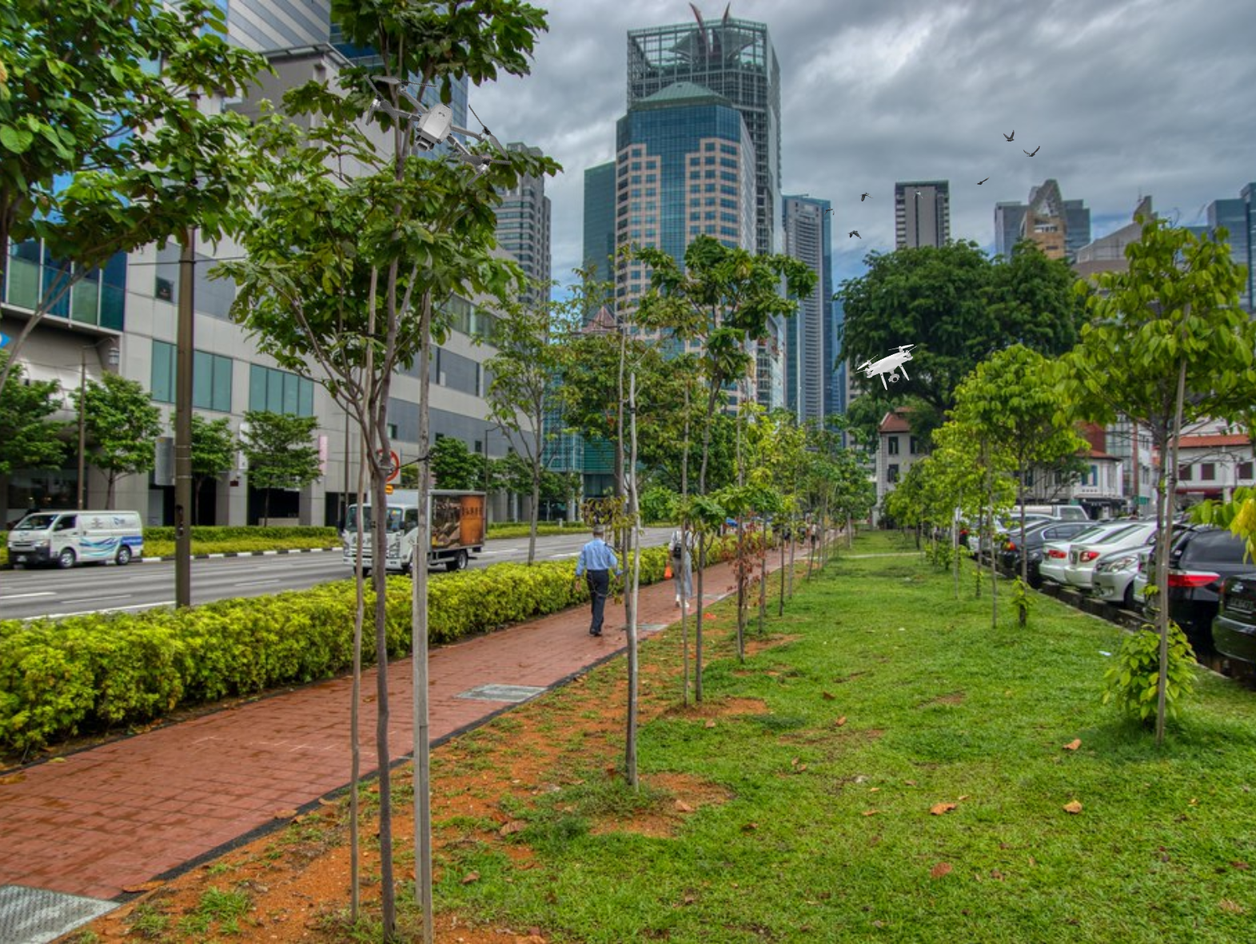drone_other: (854, 342, 920, 392)
